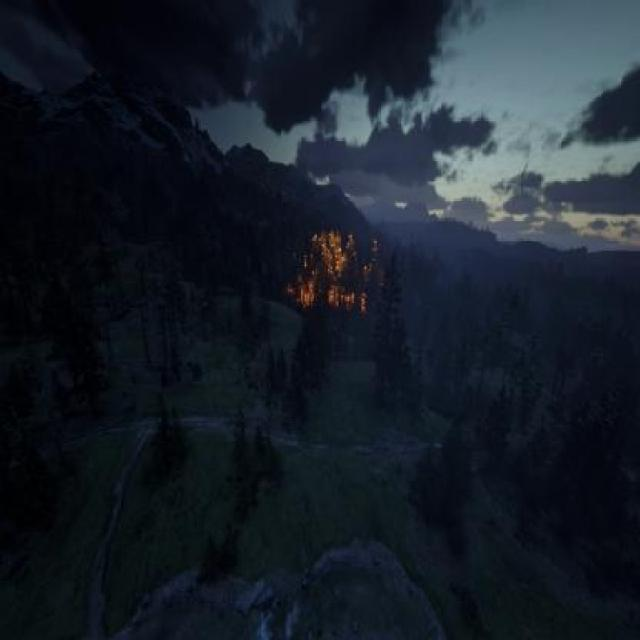Fire: (284, 212, 384, 332)
